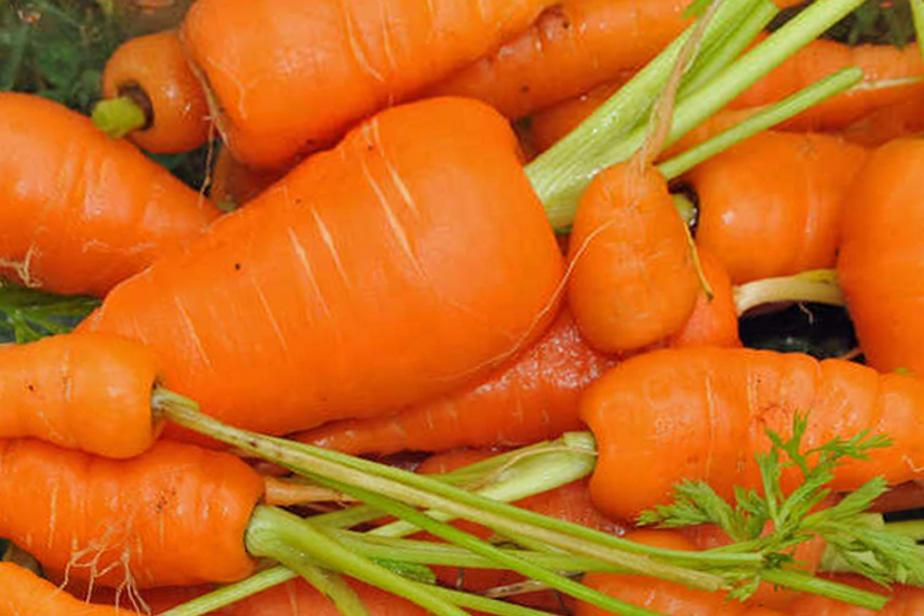carrot: (61, 43, 887, 519), (111, 0, 744, 130), (529, 337, 924, 528), (0, 87, 196, 340), (16, 446, 273, 604), (559, 156, 716, 346), (3, 328, 185, 458)
